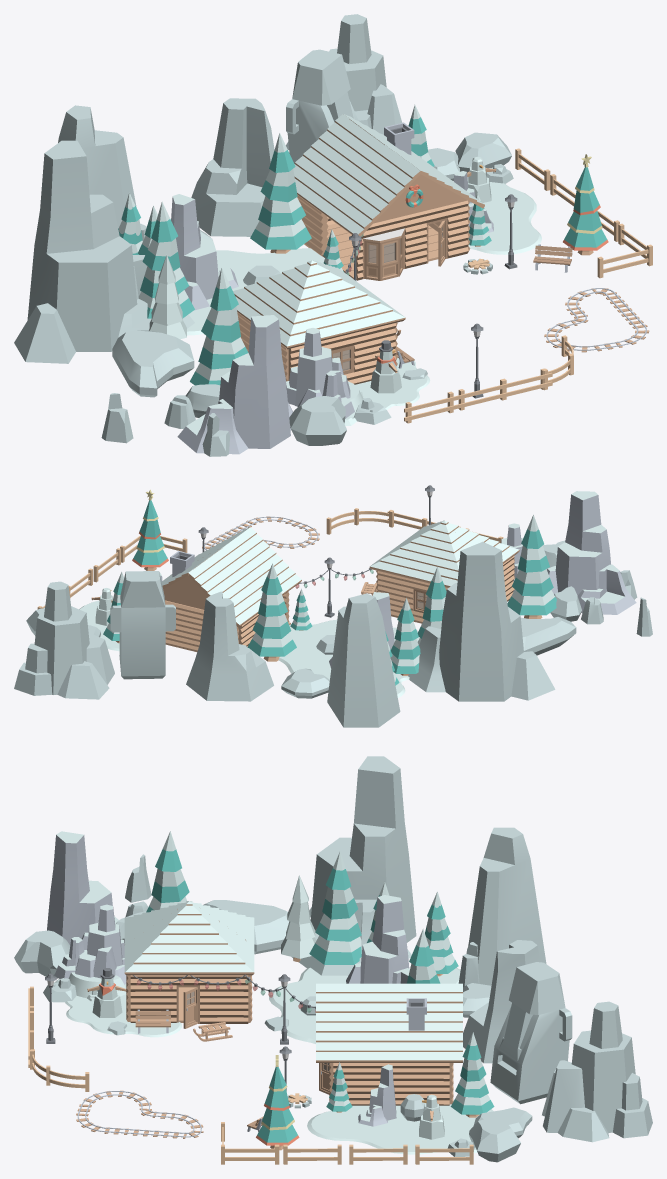
Rendered from christmas.glb.
The picture shows the model from 3 angles, top to bottom: view 1: azimuth 30°, elevation 25°; view 2: azimuth 150°, elevation 25°; view 3: azimuth 270°, elevation 25°; orthographic projection. The views are drawn at different scales.
Visible parts, largest first — view 1: stone_tall1, rockFormationLarge(Clone) (×2), treePineSnow(Clone) (×5), cabinRoof(Clone) (×3), cabinRoofCorner(Clone) (×3), stone_tall8, snowPatch(Clone) (×3), stone_statue, stone_tall2, stone_tall3, stone_large1, rockFormationMedium(Clone) (+24 smaller); view 2: stone_tall1, treePineSnow(Clone) (×6), stone_tall3, stone_tall2, rockFormationLarge(Clone) (×2), stone_tall8, cabinRoof(Clone) (×3), stone_statue, cabinRoofCorner(Clone) (×3), snowPatch(Clone) (×2), cabinWall(Clone) (×4), stone_large1 (+12 smaller); view 3: cabinRoof(Clone) (×2), stone_tall1, stone_tall2, rockFormationLarge(Clone) (×3), treePineSnow(Clone) (×5), cabinRoofCorner(Clone) (×4), snowPatch(Clone) (×3), stone_statue, stone_tall3, cabinWall(Clone) (×4), stone_tall8, rockFormationMedium(Clone) (+20 smaller).
Boxes of the visible parts, box(x1,y1,x2,y2) form: stone_tall1: box(14, 140, 194, 363); rockFormationLarge(Clone) (×2): box(171, 194, 292, 454); treePineSnow(Clone) (×5): box(138, 104, 491, 385); cabinRoof(Clone) (×3): box(293, 114, 484, 236); cabinRoofCorner(Clone) (×3): box(233, 260, 405, 349); stone_tall8: box(191, 98, 274, 236); snowPatch(Clone) (×3): box(187, 177, 541, 409); stone_statue: box(286, 49, 358, 163); stone_tall2: box(286, 14, 401, 149); stone_tall3: box(58, 105, 136, 228); stone_large1: box(112, 330, 194, 397); rockFormationMedium(Clone): box(286, 328, 350, 407); stone_tall1: box(408, 541, 555, 701); treePineSnow(Clone) (×6): box(103, 514, 556, 675); stone_tall3: box(327, 593, 400, 727); stone_tall2: box(14, 581, 114, 699); rockFormationLarge(Clone) (×2): box(329, 491, 636, 668); stone_tall8: box(186, 591, 273, 701); cabinRoof(Clone) (×3): box(161, 527, 301, 627); stone_statue: box(110, 571, 175, 679); cabinRoofCorner(Clone) (×3): box(369, 521, 519, 587); snowPatch(Clone) (×2): box(79, 600, 419, 697); cabinWall(Clone) (×4): box(165, 556, 514, 651); stone_large1: box(521, 617, 576, 655); cabinRoof(Clone) (×2): box(316, 983, 462, 1062); stone_tall1: box(292, 756, 416, 975); stone_tall2: box(542, 1001, 652, 1142); rockFormationLarge(Clone) (×3): box(47, 831, 409, 1126); treePineSnow(Clone) (×5): box(146, 831, 494, 1117); cabinRoofCorner(Clone) (×4): box(124, 901, 254, 975); snowPatch(Clone) (×3): box(65, 967, 493, 1154); stone_statue: box(490, 962, 572, 1104); stone_tall3: box(468, 827, 546, 985); cabinWall(Clone) (×4): box(135, 975, 449, 1105); stone_tall8: box(463, 940, 540, 1063); rockFormationMedium(Clone): box(75, 904, 126, 984).
Size of what is drawn, in the model's own units: 11.09 by 3.16 by 10.96.
